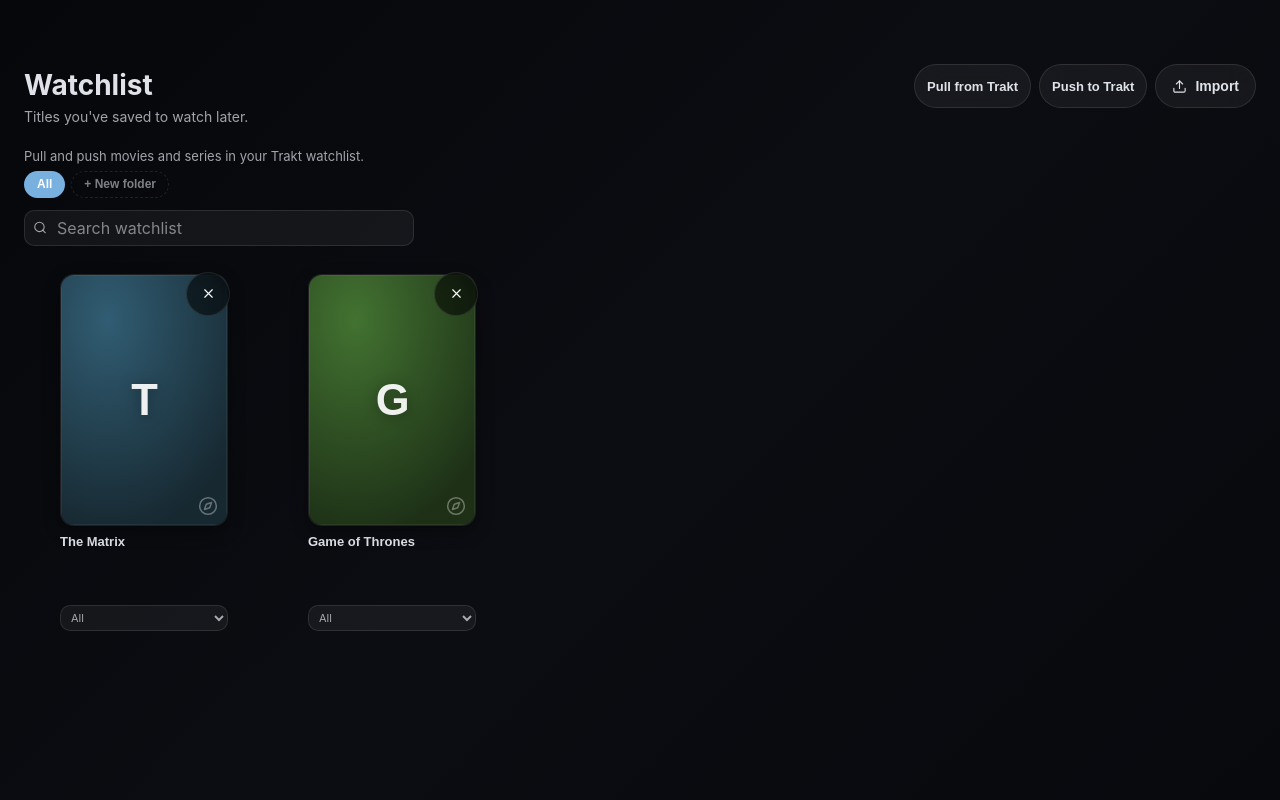
Scenario: Watchlist - Trakt pull › pushes mixed movie and series candidates in one Trakt request
Click the button "Push to Trakt" at [1093, 86], box x1=1039 y1=64 x2=1148 y2=108
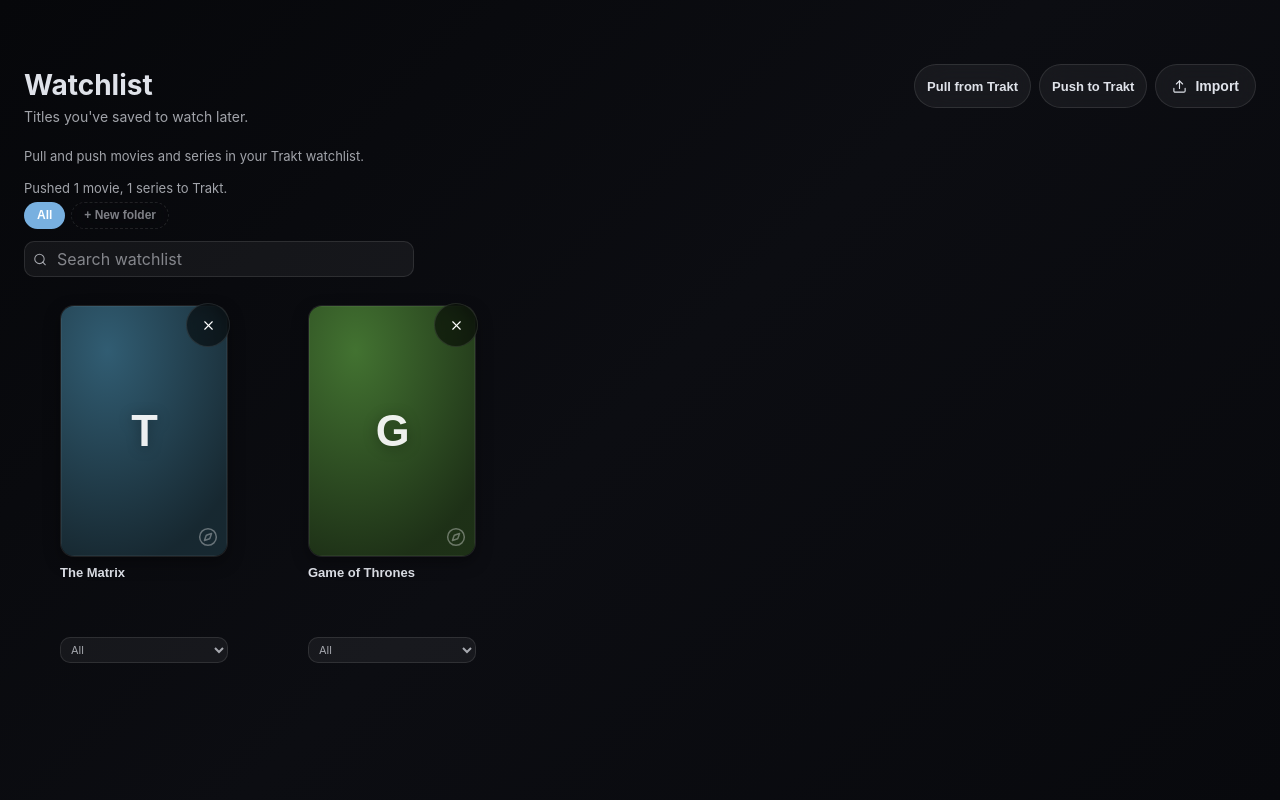
expect the text "Pushed 1 movie, 1 series to Trakt." is shown: met, box x1=24 y1=180 x2=227 y2=196
